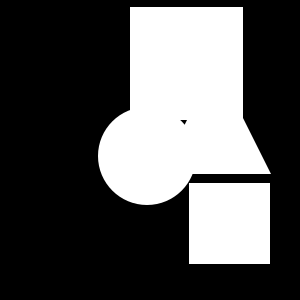circle: (130, 7, 243, 120), (189, 183, 270, 264)
rectangle: (98, 107, 196, 205)
triangle: (160, 63, 271, 174)
